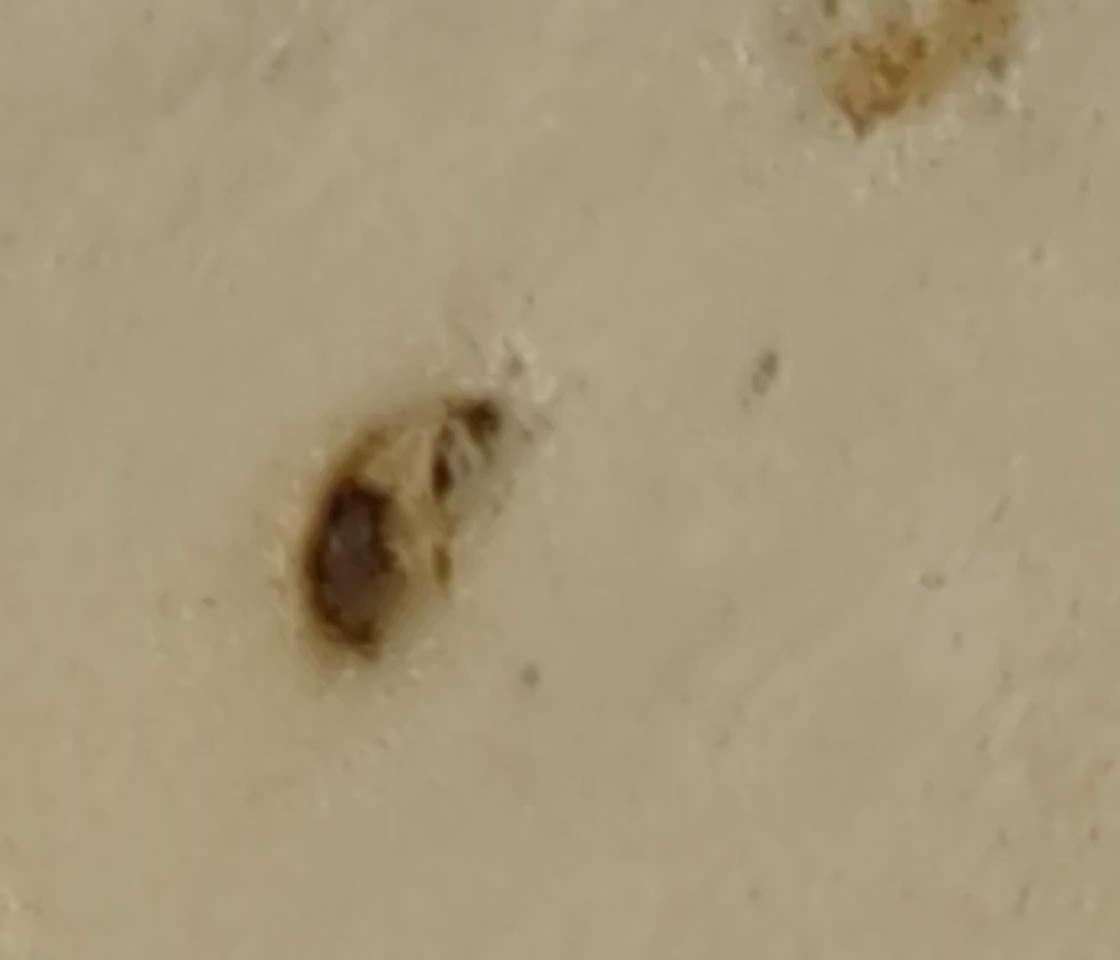rust: (289, 397, 511, 670), (817, 6, 1016, 121)
